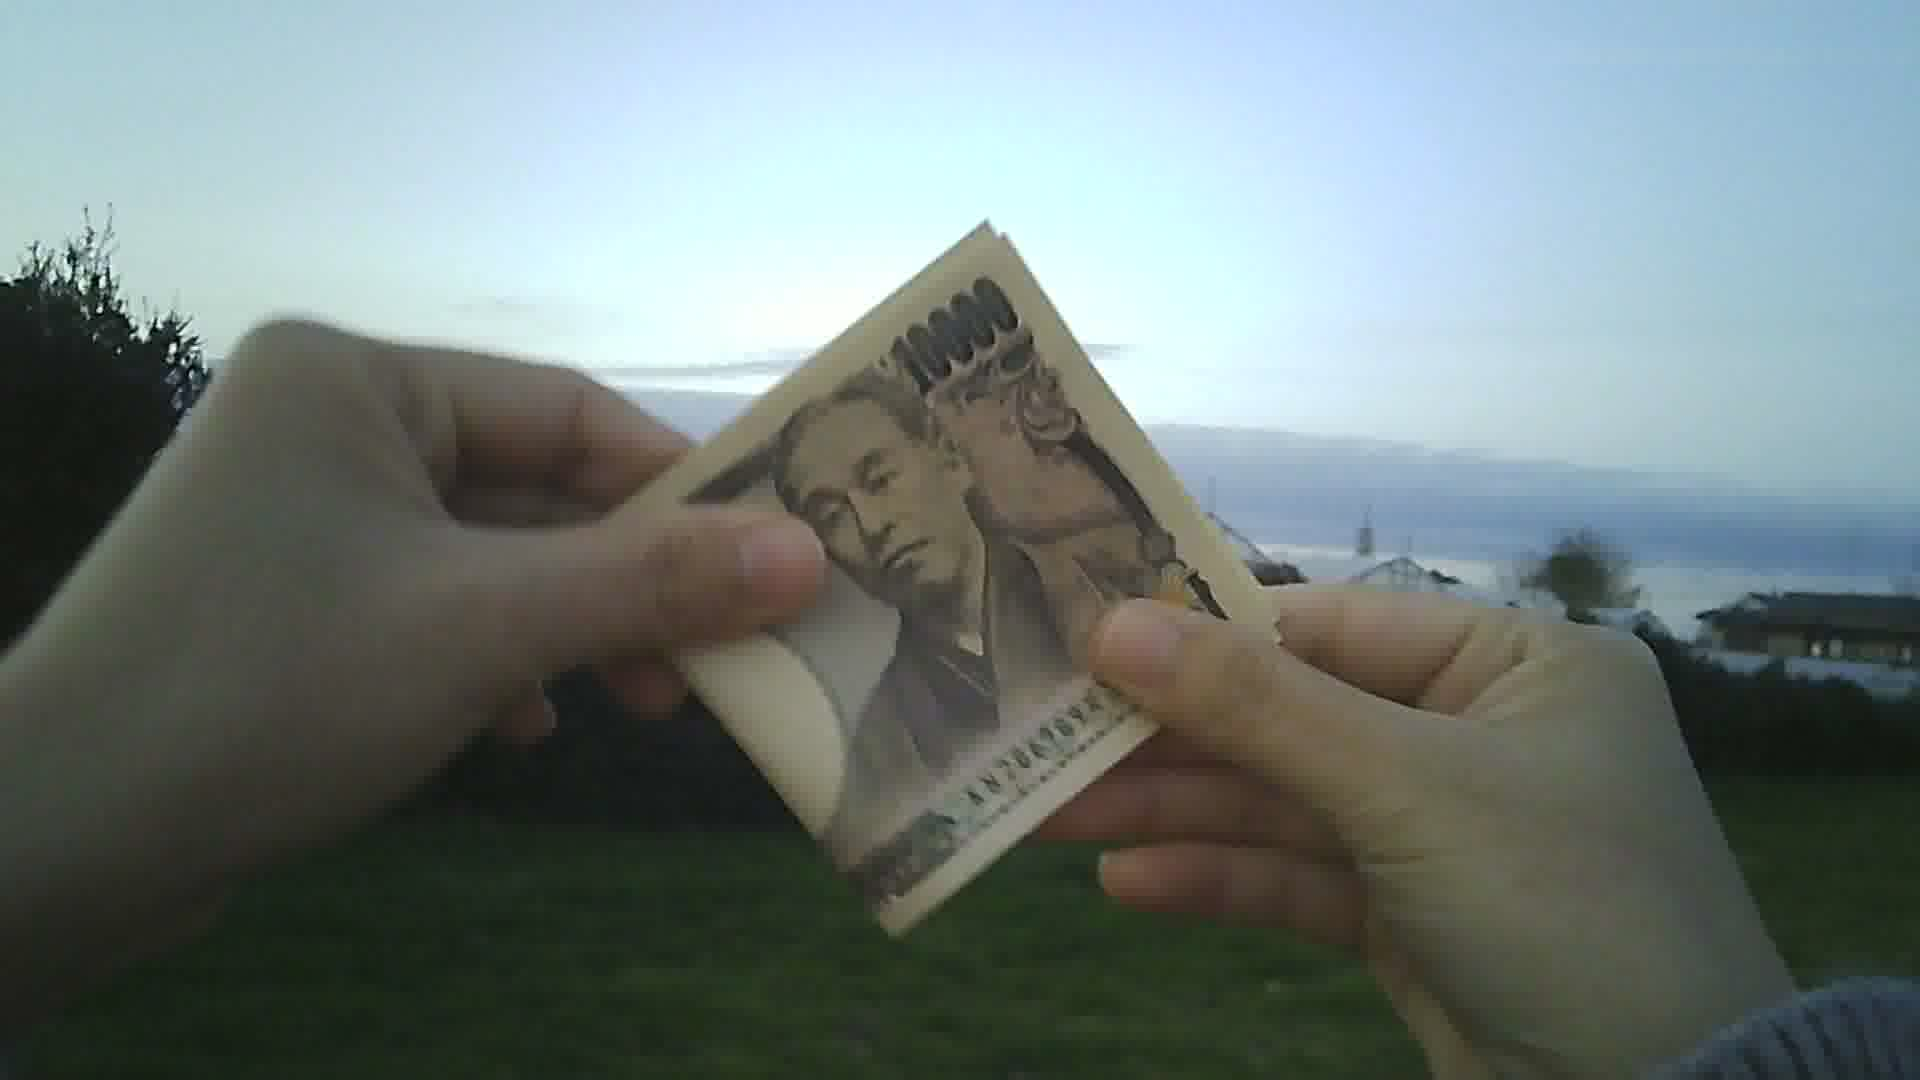10,000 Yen: (550, 189, 1275, 931)
